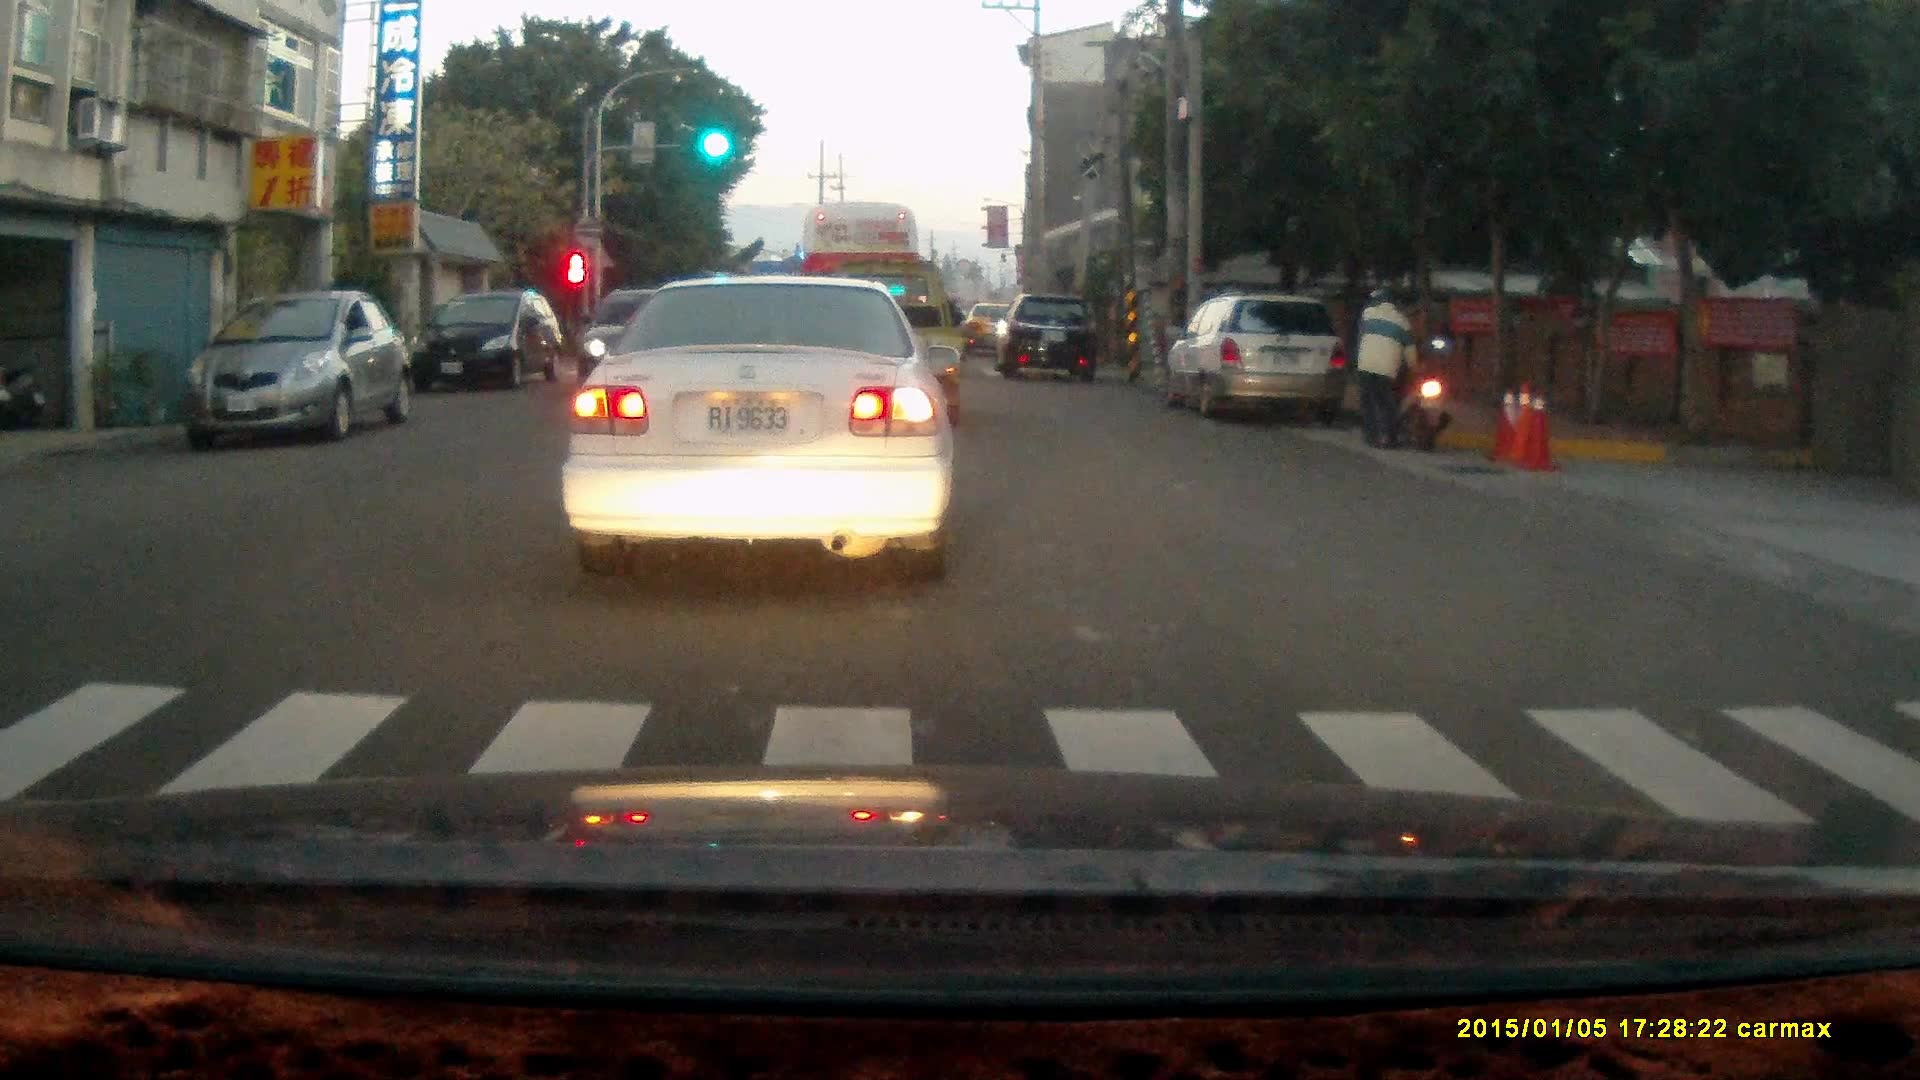pedestrian: (1353, 284, 1422, 449)
vehicle: (559, 274, 953, 583), (190, 290, 409, 447), (799, 199, 925, 382), (1171, 292, 1351, 416), (414, 292, 565, 401), (1002, 293, 1104, 384)
